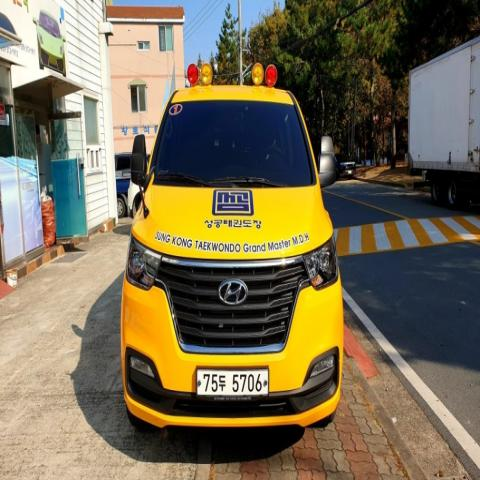LP: (190, 358, 274, 408)
